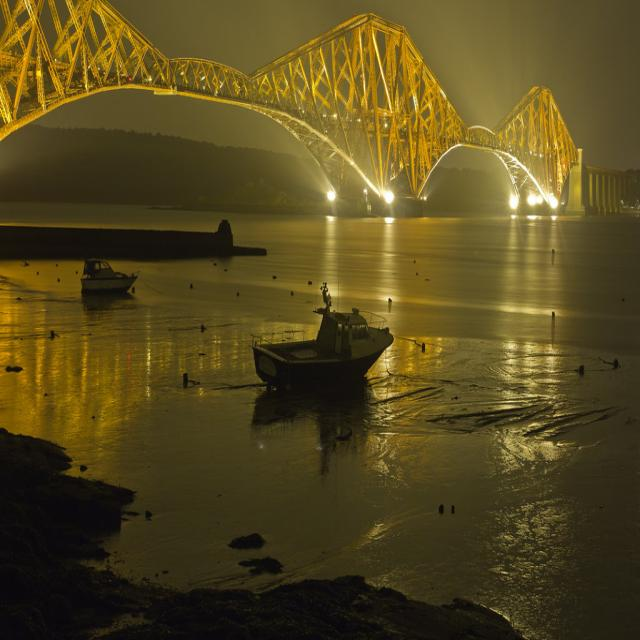Boat: (255, 278, 407, 410), (76, 249, 152, 309)
